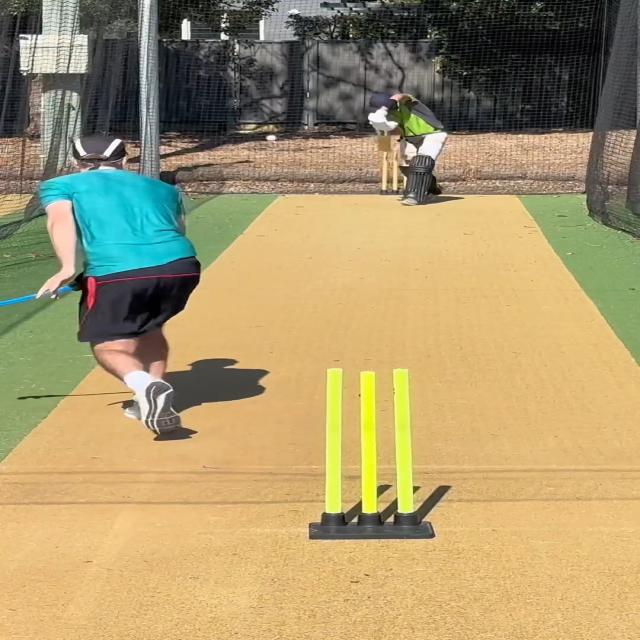ball: (263, 134, 279, 142)
stump: (306, 365, 440, 541), (380, 142, 410, 194)
